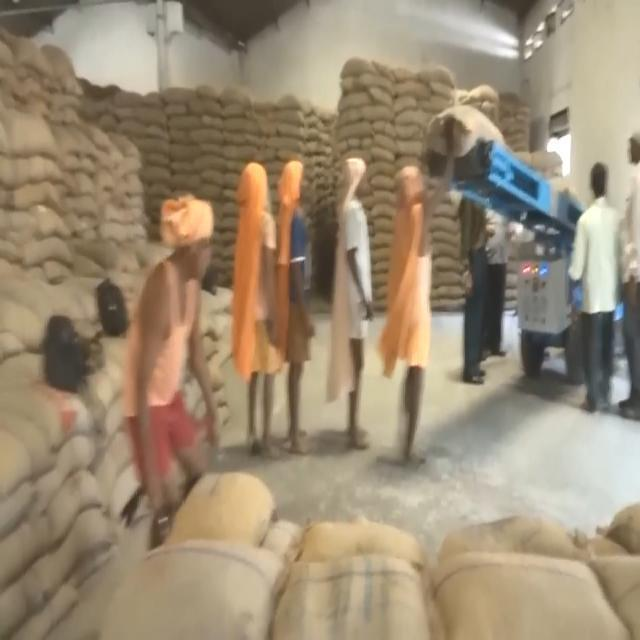gunny_bag: (102, 527, 280, 640), (420, 547, 633, 640), (270, 550, 434, 640), (303, 518, 425, 578), (4, 378, 98, 451), (424, 102, 510, 164), (0, 509, 60, 584), (44, 470, 105, 543), (1, 106, 64, 157), (1, 154, 78, 188), (0, 235, 76, 268), (15, 34, 60, 79), (28, 207, 72, 242), (115, 106, 166, 130), (354, 74, 398, 99), (220, 78, 256, 106), (276, 120, 316, 143), (415, 66, 453, 90), (160, 84, 195, 110), (110, 154, 144, 180), (360, 102, 400, 124), (339, 59, 379, 79), (222, 116, 262, 135), (166, 114, 208, 130), (275, 108, 312, 126), (140, 132, 170, 152), (222, 143, 258, 159), (198, 140, 224, 158), (170, 143, 198, 159), (372, 138, 399, 151)
